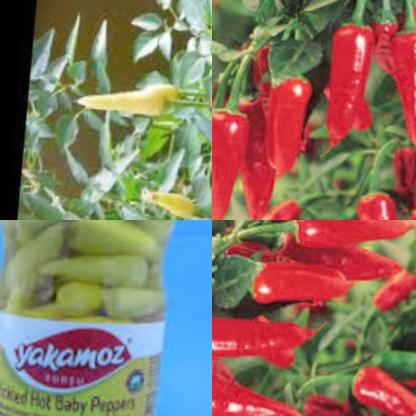hot pepper: (0, 220, 181, 350), (253, 66, 324, 187), (244, 245, 366, 314), (275, 230, 408, 289), (313, 19, 375, 144), (234, 94, 294, 220), (212, 299, 316, 359), (212, 361, 324, 416), (212, 98, 260, 220), (374, 21, 416, 159), (76, 69, 180, 124), (283, 220, 416, 254), (348, 355, 416, 416), (137, 172, 209, 220), (368, 252, 416, 307), (352, 183, 416, 220), (395, 0, 416, 82), (249, 190, 305, 220), (212, 374, 245, 416)
